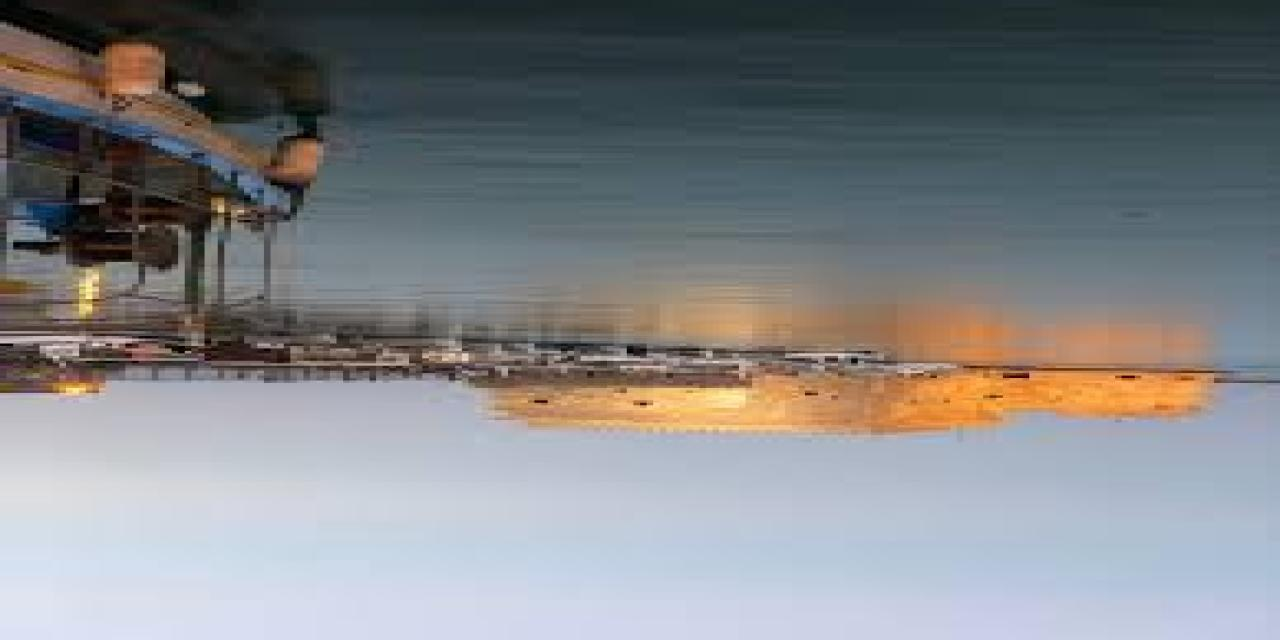Kules: (483, 365, 1235, 438)
